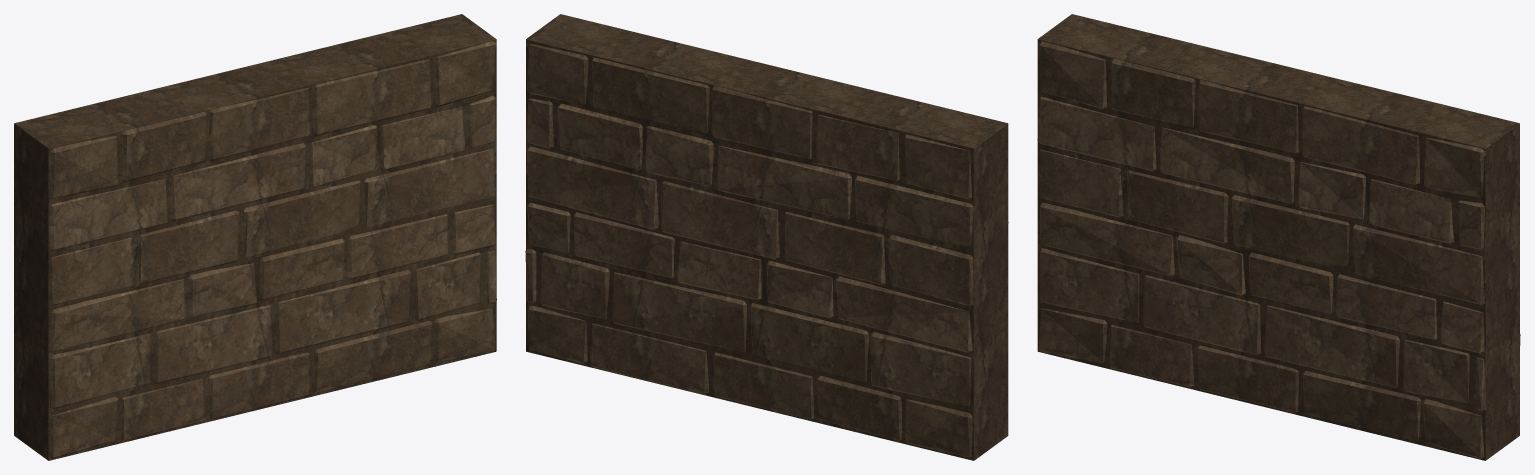
The picture shows the model from 3 angles, left to right: view 1: azimuth 30°, elevation 25°; view 2: azimuth 150°, elevation 25°; view 3: azimuth 330°, elevation 25°; orthographic projection.
Visible parts, largest first — view 1: Mesh_stone; view 2: Mesh_stone; view 3: Mesh_stone.
Boxes of the visible parts, left/top/right/bottom form: Mesh_stone: left=14, top=14, right=496, bottom=460; Mesh_stone: left=525, top=14, right=1008, bottom=460; Mesh_stone: left=1037, top=14, right=1520, bottom=460.
Bounding box in the file's own units: 2.4 × 1.6 × 0.3618.
Materials: 1 (1 with a texture image).
